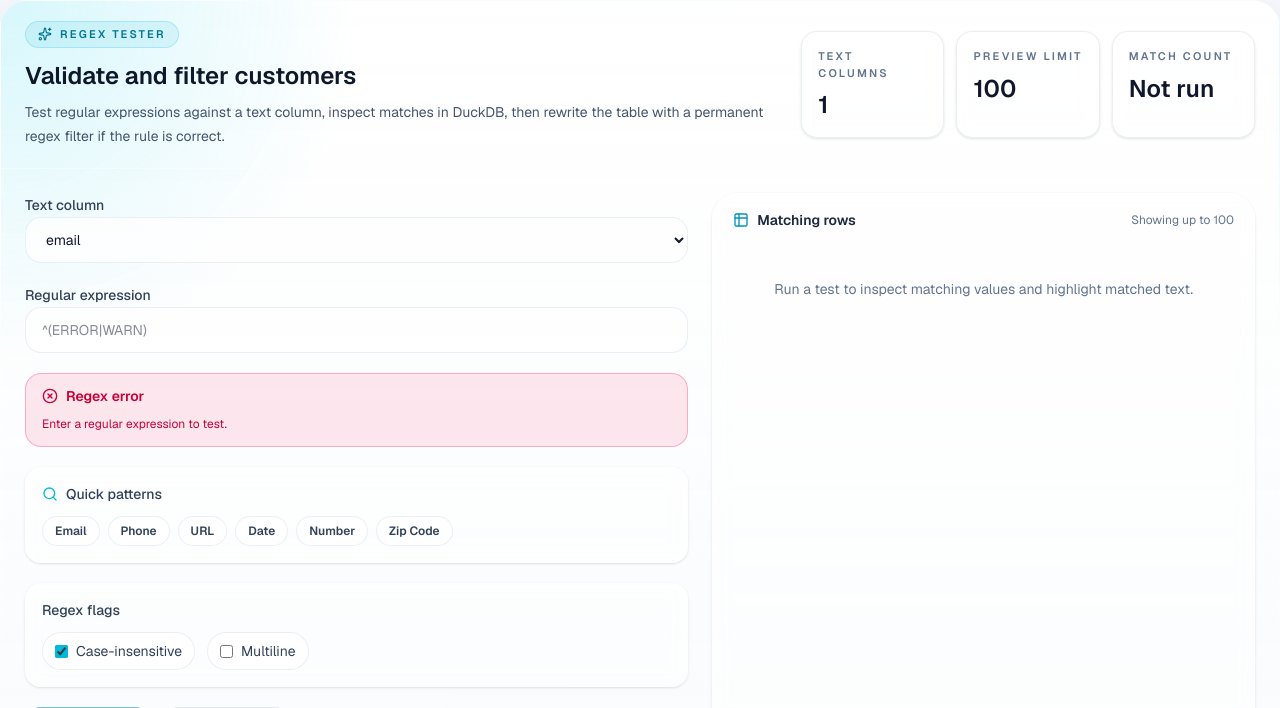
RegexTester › surfaces DuckDB failures when testing the regex
Step 1. Click the button "Email" → (71, 531), box [42,516,100,546]
(page scrolled)
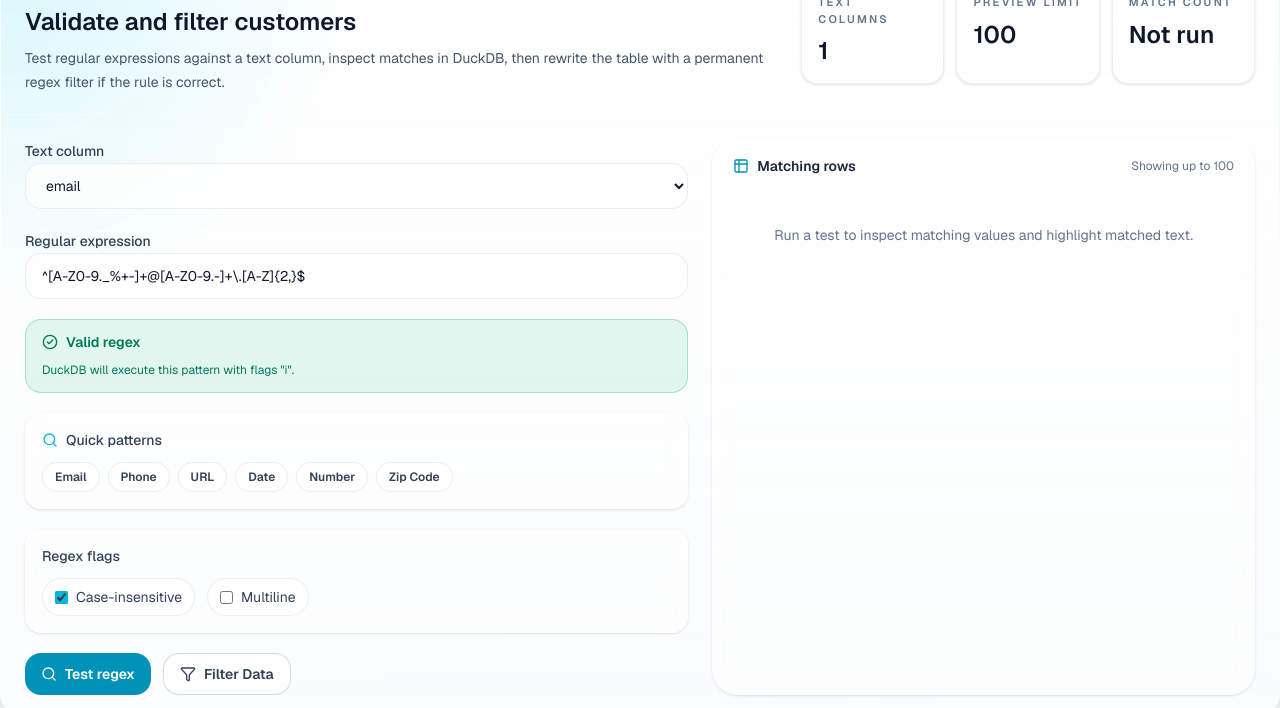
Step 2. Click the button "Test regex" → (88, 674), box [25,653,151,695]
(page scrolled)
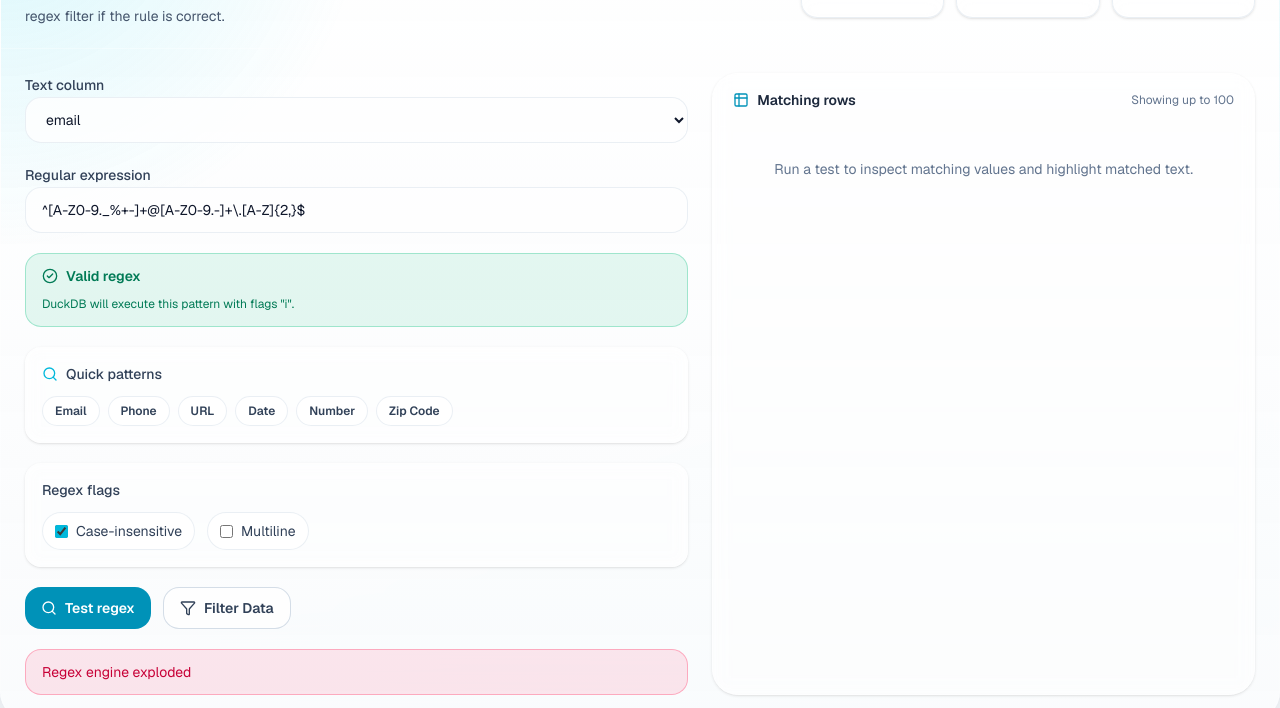
Expected: the text "Regex engine exploded" is shown, [25,649,688,695]
